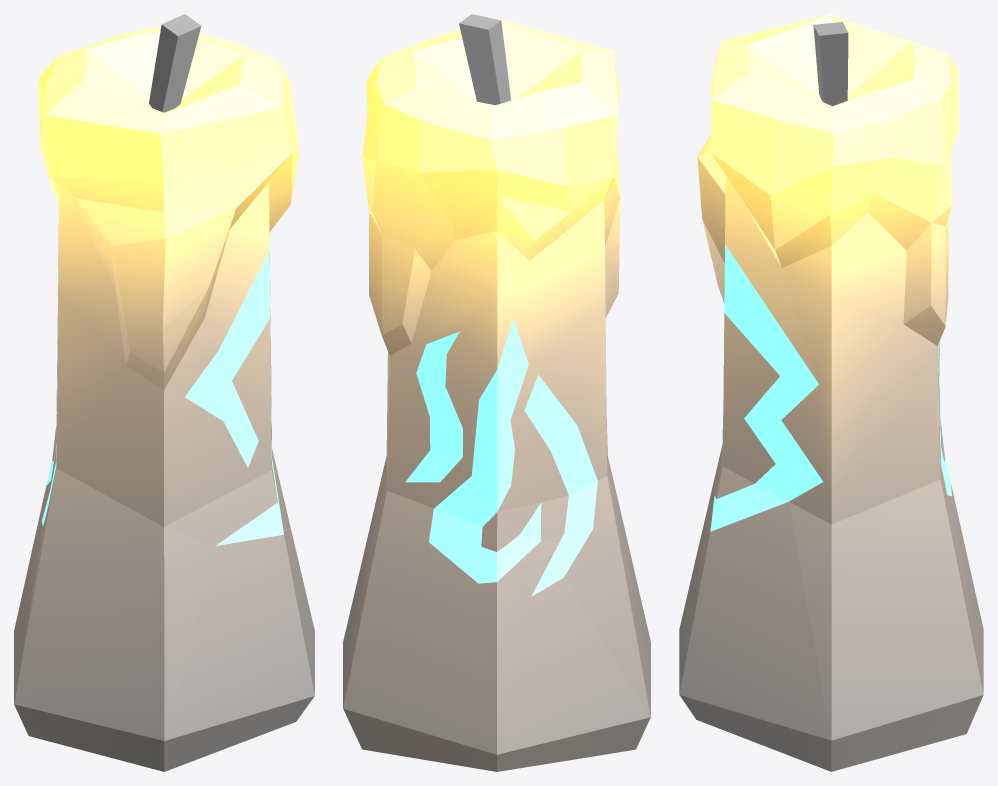
The model's file is SM_Prop_Candle_02.fbx.
The picture shows the model from 3 angles, left to right: view 1: azimuth 30°, elevation 25°; view 2: azimuth 150°, elevation 25°; view 3: azimuth 270°, elevation 25°; orthographic projection. The views are drawn at different scales.
Visible parts, largest first — view 1: SM_Prop_Candle_02; view 2: SM_Prop_Candle_02; view 3: SM_Prop_Candle_02.
Boxes of the visible parts, x1,y1,x2,y2 form: SM_Prop_Candle_02: [14, 14, 314, 771]; SM_Prop_Candle_02: [343, 14, 650, 771]; SM_Prop_Candle_02: [679, 14, 983, 771].
Size of the model in its own units: 15.76 by 35.35 by 13.65.
